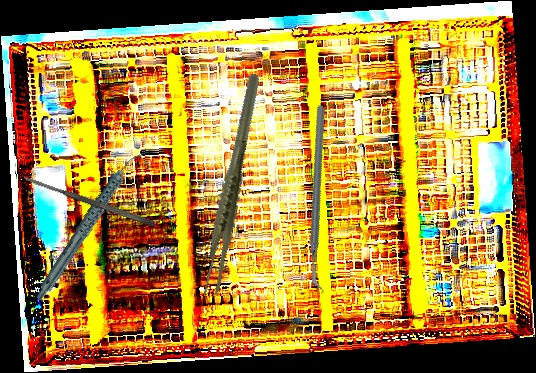Chopper: (242, 102, 398, 295)
Handpiece: (10, 149, 168, 302)
Spatula Surgical: (22, 173, 157, 229)
Tissue Forceps: (165, 71, 301, 301)
